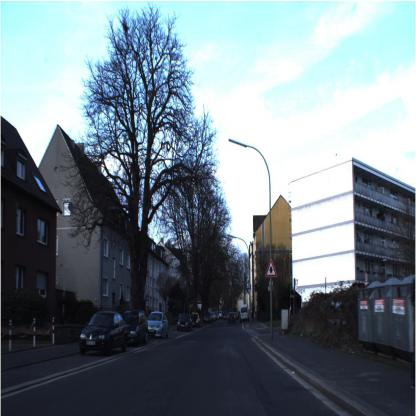danger: (262, 258, 278, 280)
